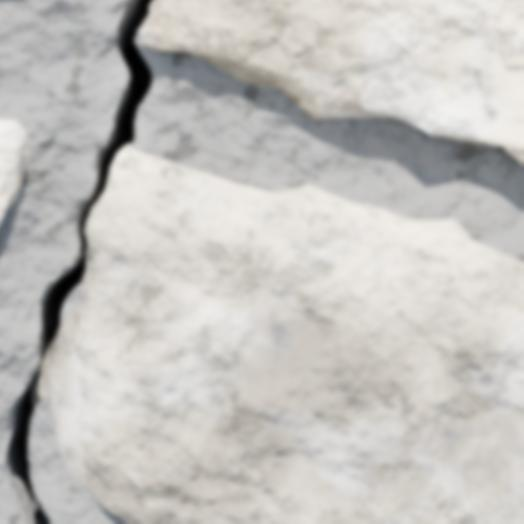brick: (48, 148, 523, 523), (141, 0, 523, 164), (0, 120, 28, 222)
crack: (0, 0, 156, 523)
